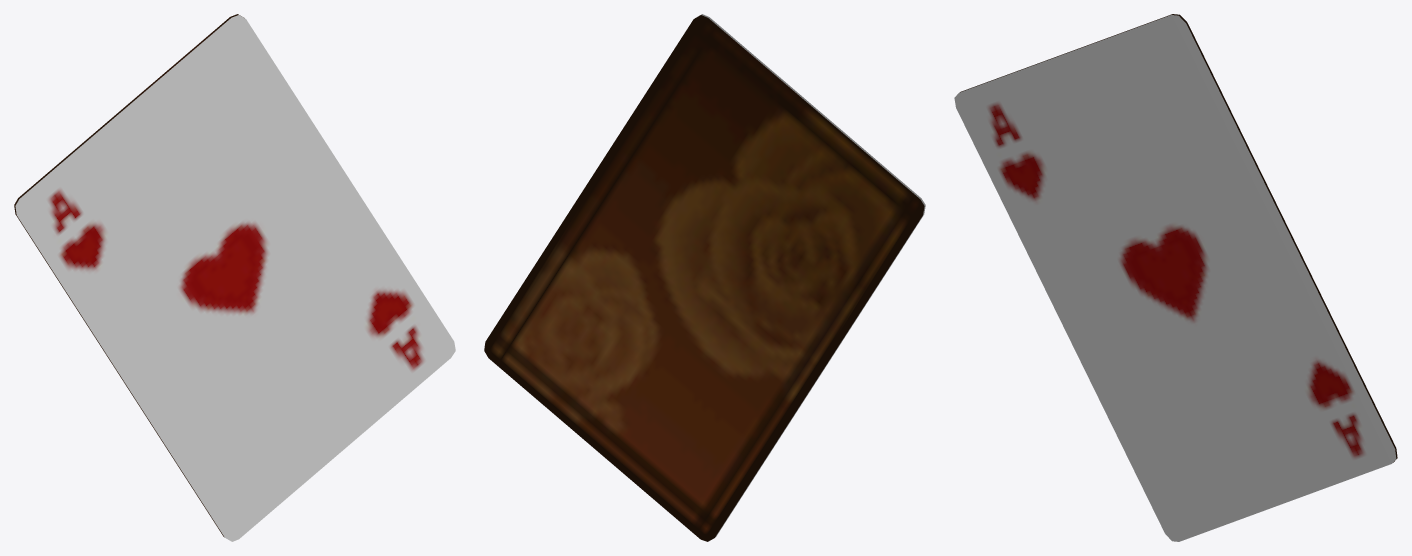
File: icon.ico.obj
3 renders of one model, left to right at view 1: azimuth 30°, elevation 25°; view 2: azimuth 150°, elevation 25°; view 3: azimuth 330°, elevation 25°, orthographic.
Bounding box in the file's own units: 4.34 × 4.95 × 0.0239.
Materials: 1 (1 with a texture image).
